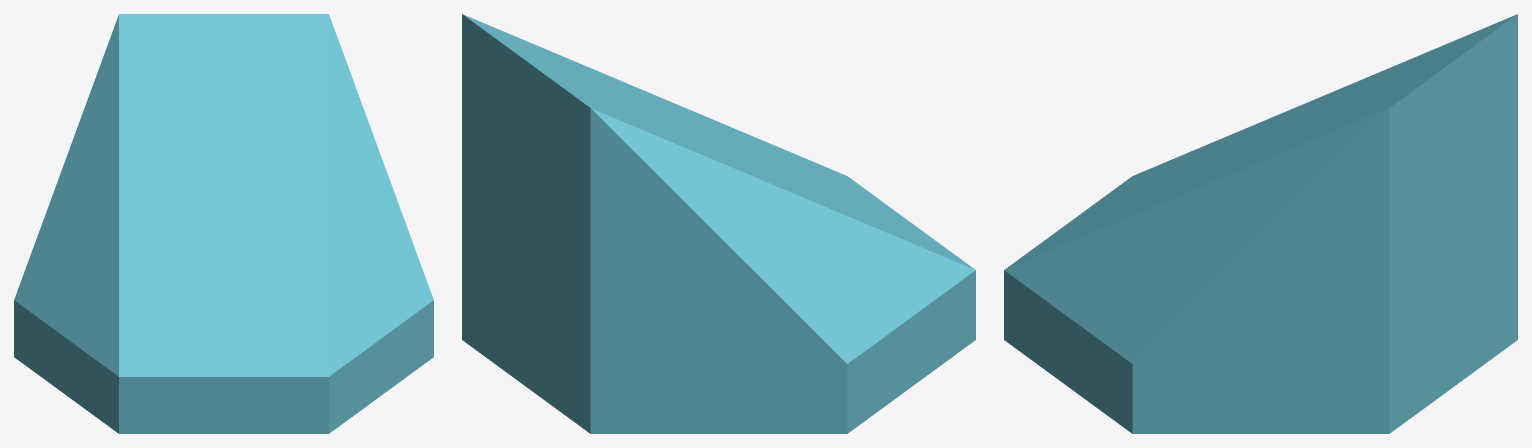
Rendered from shallow_water2.glb.
3 renders of one model, left to right at view 1: azimuth 30°, elevation 25°; view 2: azimuth 150°, elevation 25°; view 3: azimuth 270°, elevation 25°, orthographic. The views are drawn at different scales.
Visible parts, largest first — view 1: ShallowWaterStairTile-col; view 2: ShallowWaterStairTile-col; view 3: ShallowWaterStairTile-col.
Boxes of the visible parts, x1=… form: ShallowWaterStairTile-col: x1=14, y1=14, x2=433, y2=433; ShallowWaterStairTile-col: x1=462, y1=14, x2=975, y2=433; ShallowWaterStairTile-col: x1=1004, y1=14, x2=1517, y2=433.
Bounding box in the file's own units: 1.73 × 1.4 × 2.
1 material, 1 textured.
